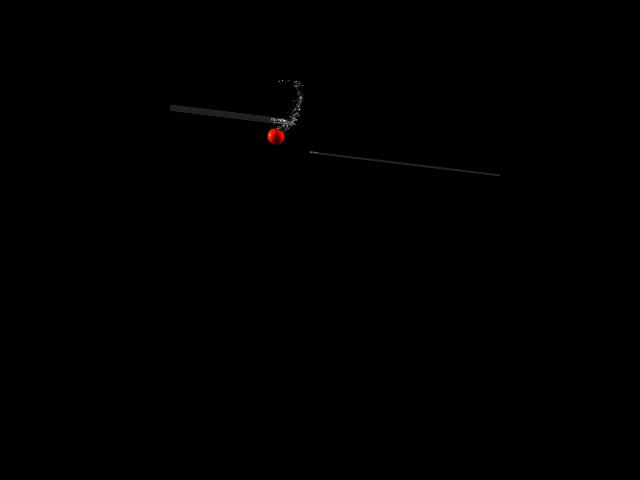tomato: (266, 127, 285, 145)
